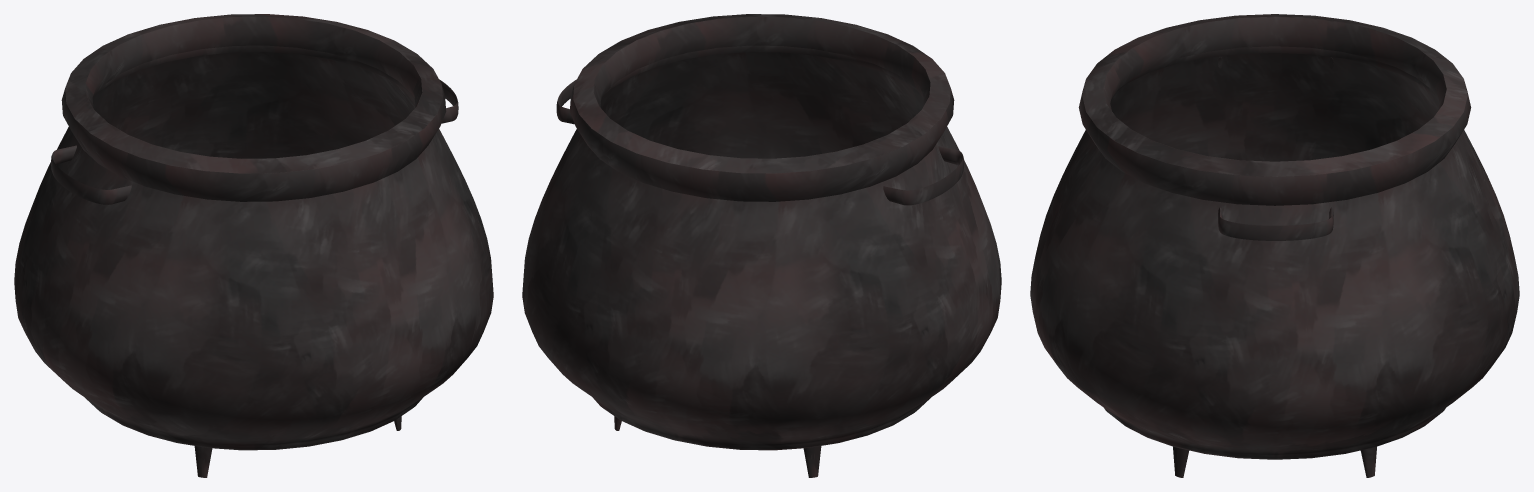
Rendered from House_Cauldron_v01.fbx.
3 views of the same model, side by side, from view 1: azimuth 30°, elevation 25°; view 2: azimuth 150°, elevation 25°; view 3: azimuth 270°, elevation 25° (orthographic). The views are drawn at different scales.
Parts seen in each view (by area): view 1: cauldron_body; view 2: cauldron_body; view 3: cauldron_body.
Part boxes in pixels (box(x1,y1,x2,y2)): cauldron_body: box(14, 14, 493, 477); cauldron_body: box(522, 14, 1001, 477); cauldron_body: box(1030, 14, 1519, 477).
Size of the model in its own units: 154 by 154 by 118.
